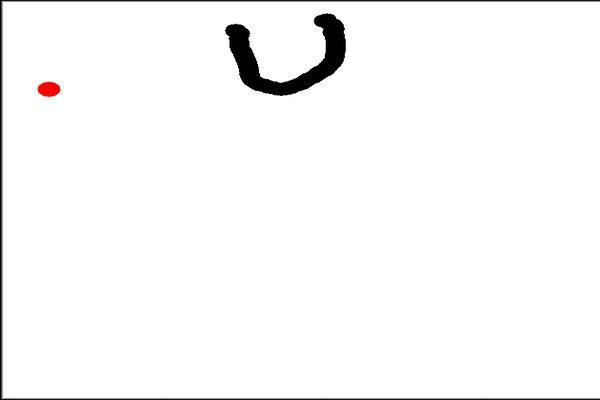U: (207, 11, 354, 96)
